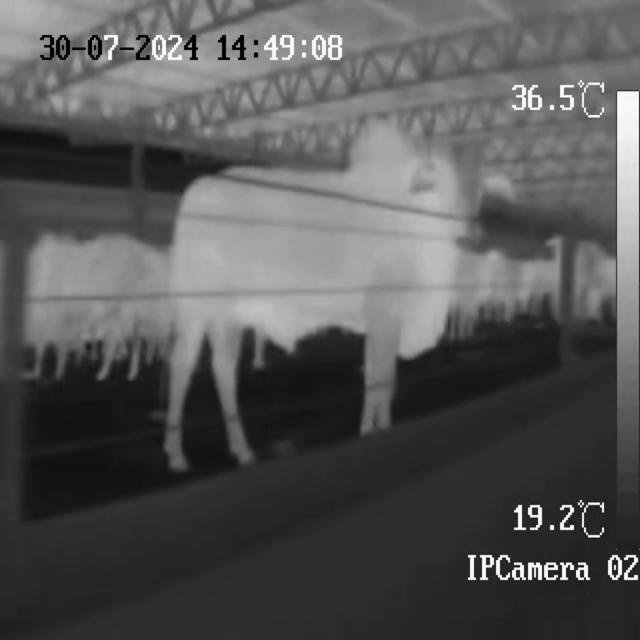eye: (441, 170, 456, 193)
head: (432, 138, 492, 254)
